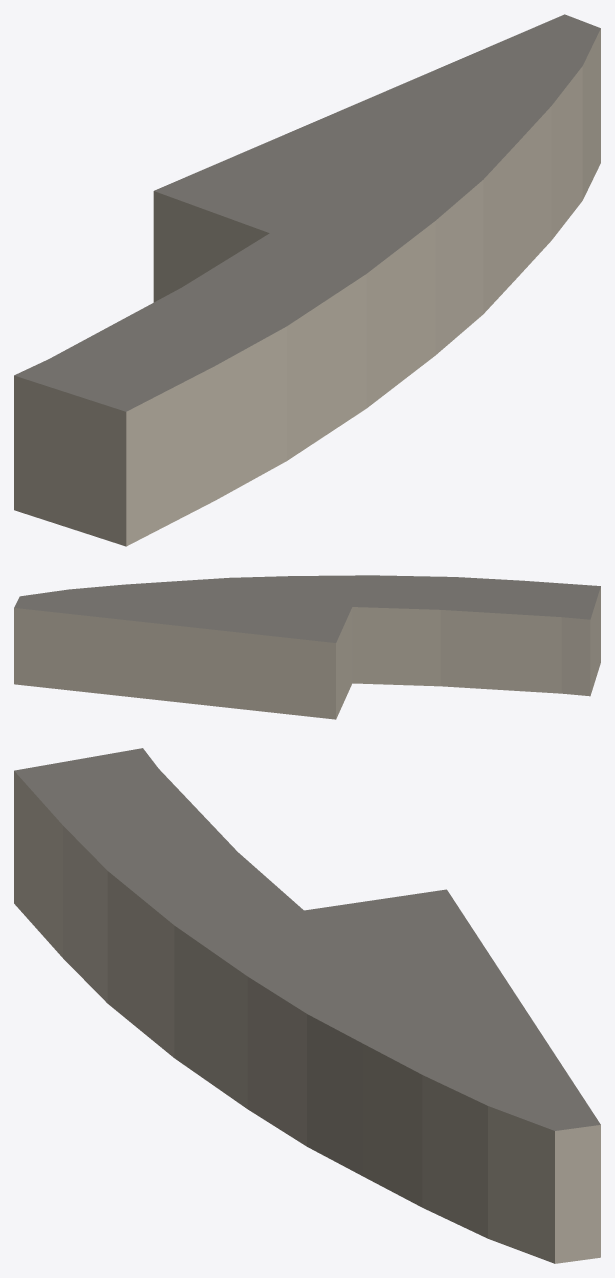
The picture shows the model from 3 angles, top to bottom: view 1: azimuth 30°, elevation 25°; view 2: azimuth 150°, elevation 25°; view 3: azimuth 270°, elevation 25°; orthographic projection. The views are drawn at different scales.
Parts seen in each view (by area): view 1: HP-w757498886; view 2: HP-w757498886; view 3: HP-w757498886.
Part boxes in pixels (<box>): HP-w757498886: <box>14,14,600,546</box>; HP-w757498886: <box>14,575,600,719</box>; HP-w757498886: <box>14,748,600,1263</box>.
Size of the model in its own units: 92.72 by 15 by 60.06.
